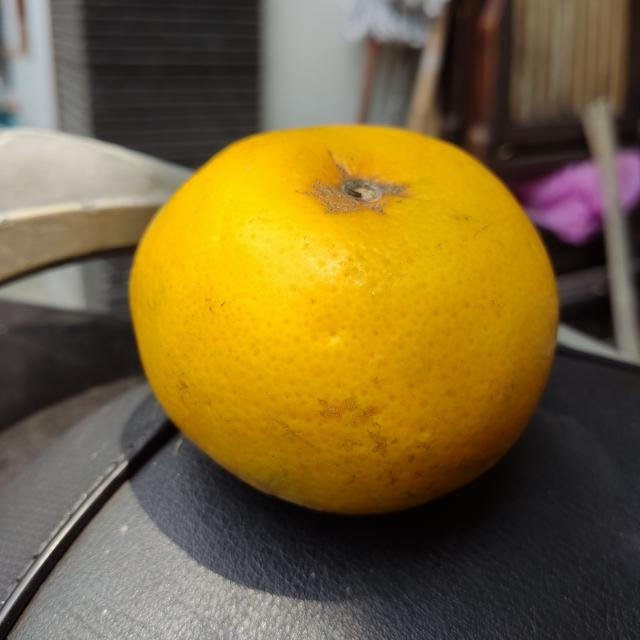agrume: (125, 120, 567, 525)
